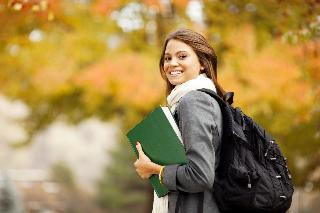person - v3 P: (135, 29, 225, 212)
